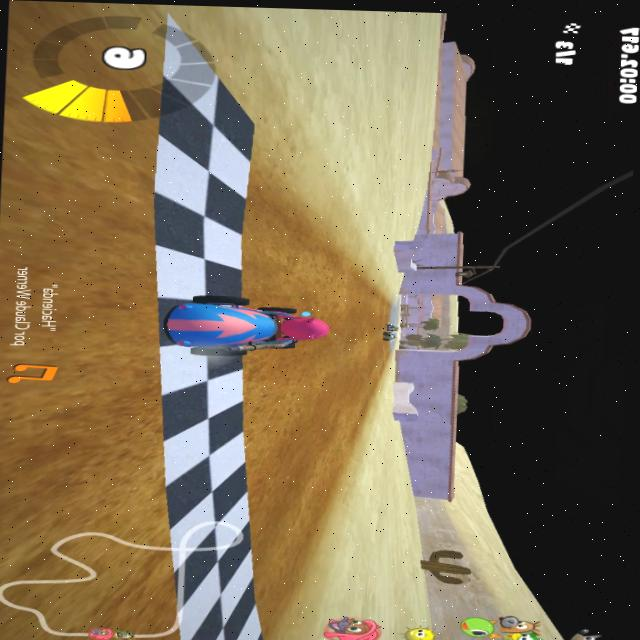enemy_kart: (376, 332, 400, 340)
player_kart: (156, 291, 323, 360)
track: (0, 357, 289, 619), (0, 5, 168, 356), (128, 153, 292, 291), (274, 353, 323, 545), (243, 188, 320, 290), (318, 281, 384, 378), (328, 375, 376, 445), (381, 297, 404, 321)
